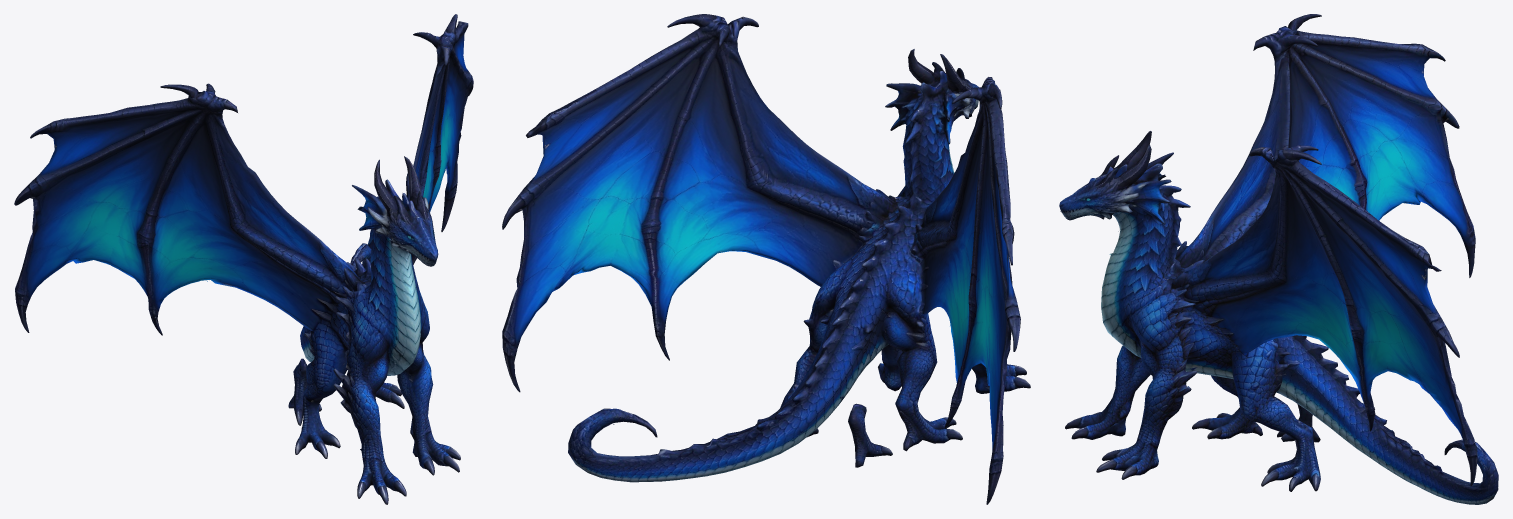
3 renders of one model, left to right at view 1: azimuth 30°, elevation 25°; view 2: azimuth 150°, elevation 25°; view 3: azimuth 270°, elevation 25°, orthographic. The views are drawn at different scales.
Visible parts, largest first — view 1: tripo_node_a73a00e9-8a4c-421f-b718-4995d55e5073; view 2: tripo_node_a73a00e9-8a4c-421f-b718-4995d55e5073; view 3: tripo_node_a73a00e9-8a4c-421f-b718-4995d55e5073.
Part boxes in pixels (left/top/right/bottom): tripo_node_a73a00e9-8a4c-421f-b718-4995d55e5073: left=14, top=14, right=473, bottom=504; tripo_node_a73a00e9-8a4c-421f-b718-4995d55e5073: left=502, top=14, right=1030, bottom=504; tripo_node_a73a00e9-8a4c-421f-b718-4995d55e5073: left=1059, top=14, right=1498, bottom=504.
Bounding box in the file's own units: 0.9765 × 0.738 × 0.7935.
Materials: 1 (1 with a texture image).
